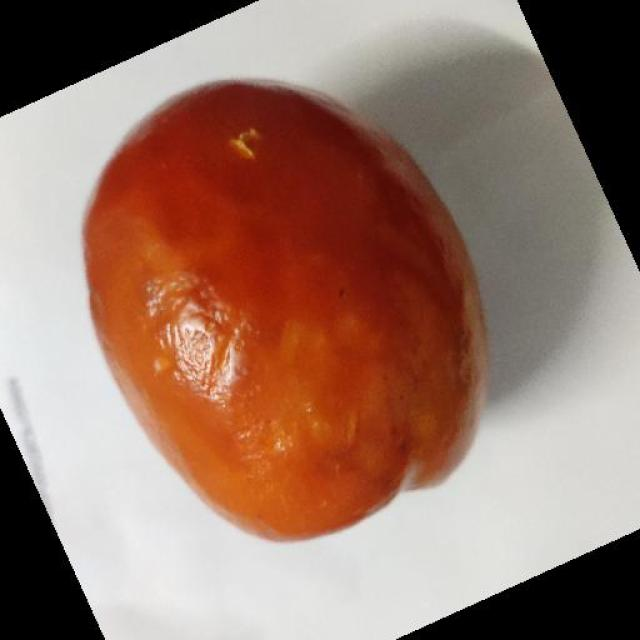Stale_tomato: (70, 81, 502, 531)
